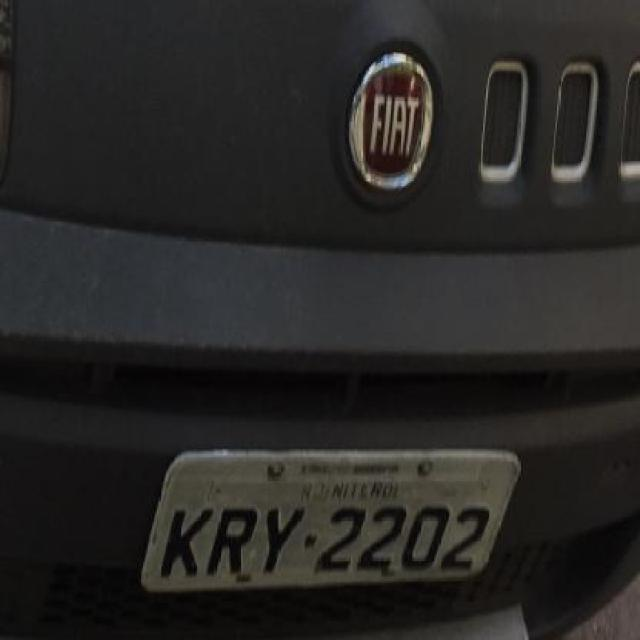old_plate: (132, 438, 528, 600)
